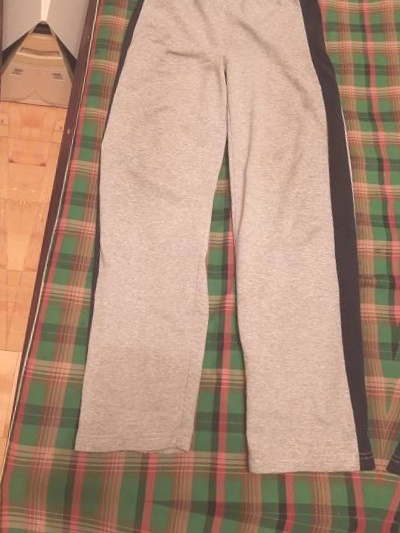Pants: (49, 0, 400, 499), (0, 517, 349, 533), (400, 1, 400, 533)
